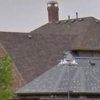Chimney: (38, 0, 63, 26)
